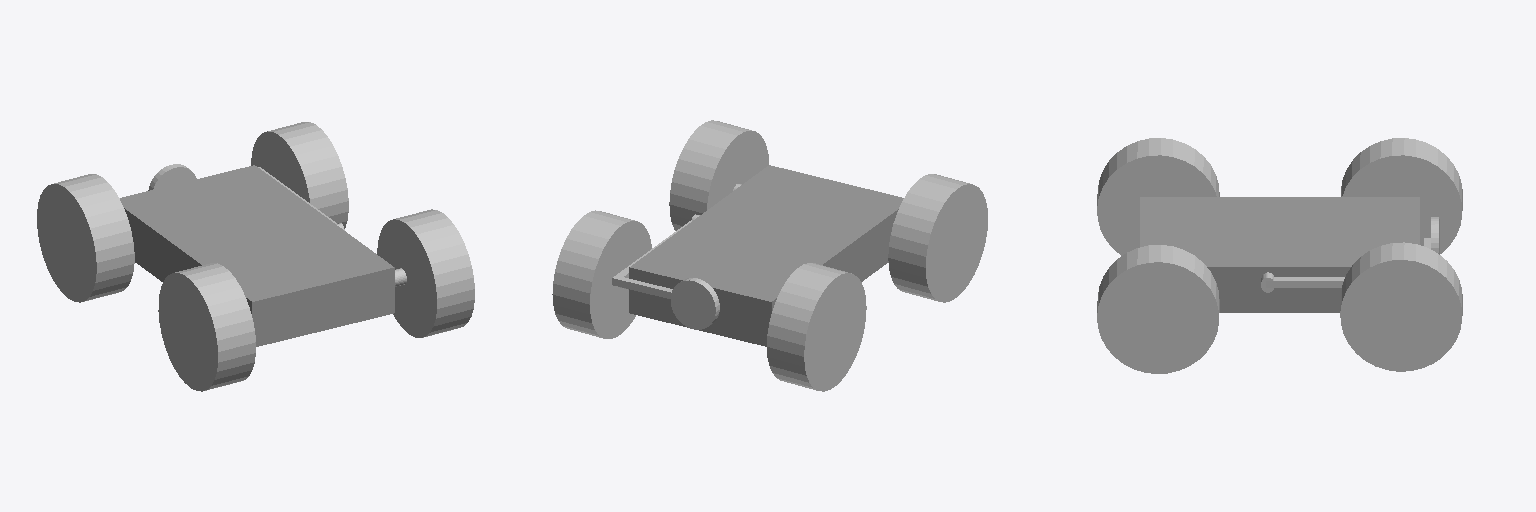
The model's file is robot.obj.
3 renders of one model, left to right at view 1: azimuth 30°, elevation 25°; view 2: azimuth 150°, elevation 25°; view 3: azimuth 270°, elevation 25°, orthographic.
Visible parts, largest first — view 1: Cube, Cylinder.002, Cylinder.003, Cylinder, Cylinder.001, Cylinder.008_Cylinder.004; view 2: Cube, Cylinder.002, Cylinder.003, Cylinder.001, Cylinder, Cylinder.008_Cylinder.004, Cube.001; view 3: Cube, Cylinder, Cylinder.001, Cylinder.003, Cylinder.002, Cube.001.
Boxes of the visible parts, x1,y1,x2,y2 form: Cube: [120, 165, 394, 346]; Cylinder.002: [37, 174, 134, 302]; Cylinder.003: [158, 263, 255, 391]; Cylinder: [377, 209, 474, 337]; Cylinder.001: [251, 122, 348, 228]; Cylinder.008_Cylinder.004: [148, 164, 196, 190]; Cube: [629, 165, 903, 346]; Cylinder.002: [767, 263, 866, 391]; Cylinder.003: [888, 174, 987, 302]; Cylinder.001: [552, 210, 651, 338]; Cylinder: [669, 120, 768, 230]; Cylinder.008_Cylinder.004: [670, 278, 719, 329]; Cube.001: [612, 214, 699, 298]; Cube: [1140, 197, 1419, 312]; Cylinder: [1097, 245, 1219, 373]; Cylinder.001: [1340, 242, 1462, 371]; Cylinder.003: [1097, 138, 1219, 255]; Cylinder.002: [1341, 138, 1462, 253]; Cube.001: [1261, 238, 1430, 292].
Size of the model in its own units: 0.8476 by 0.3486 by 1.04.